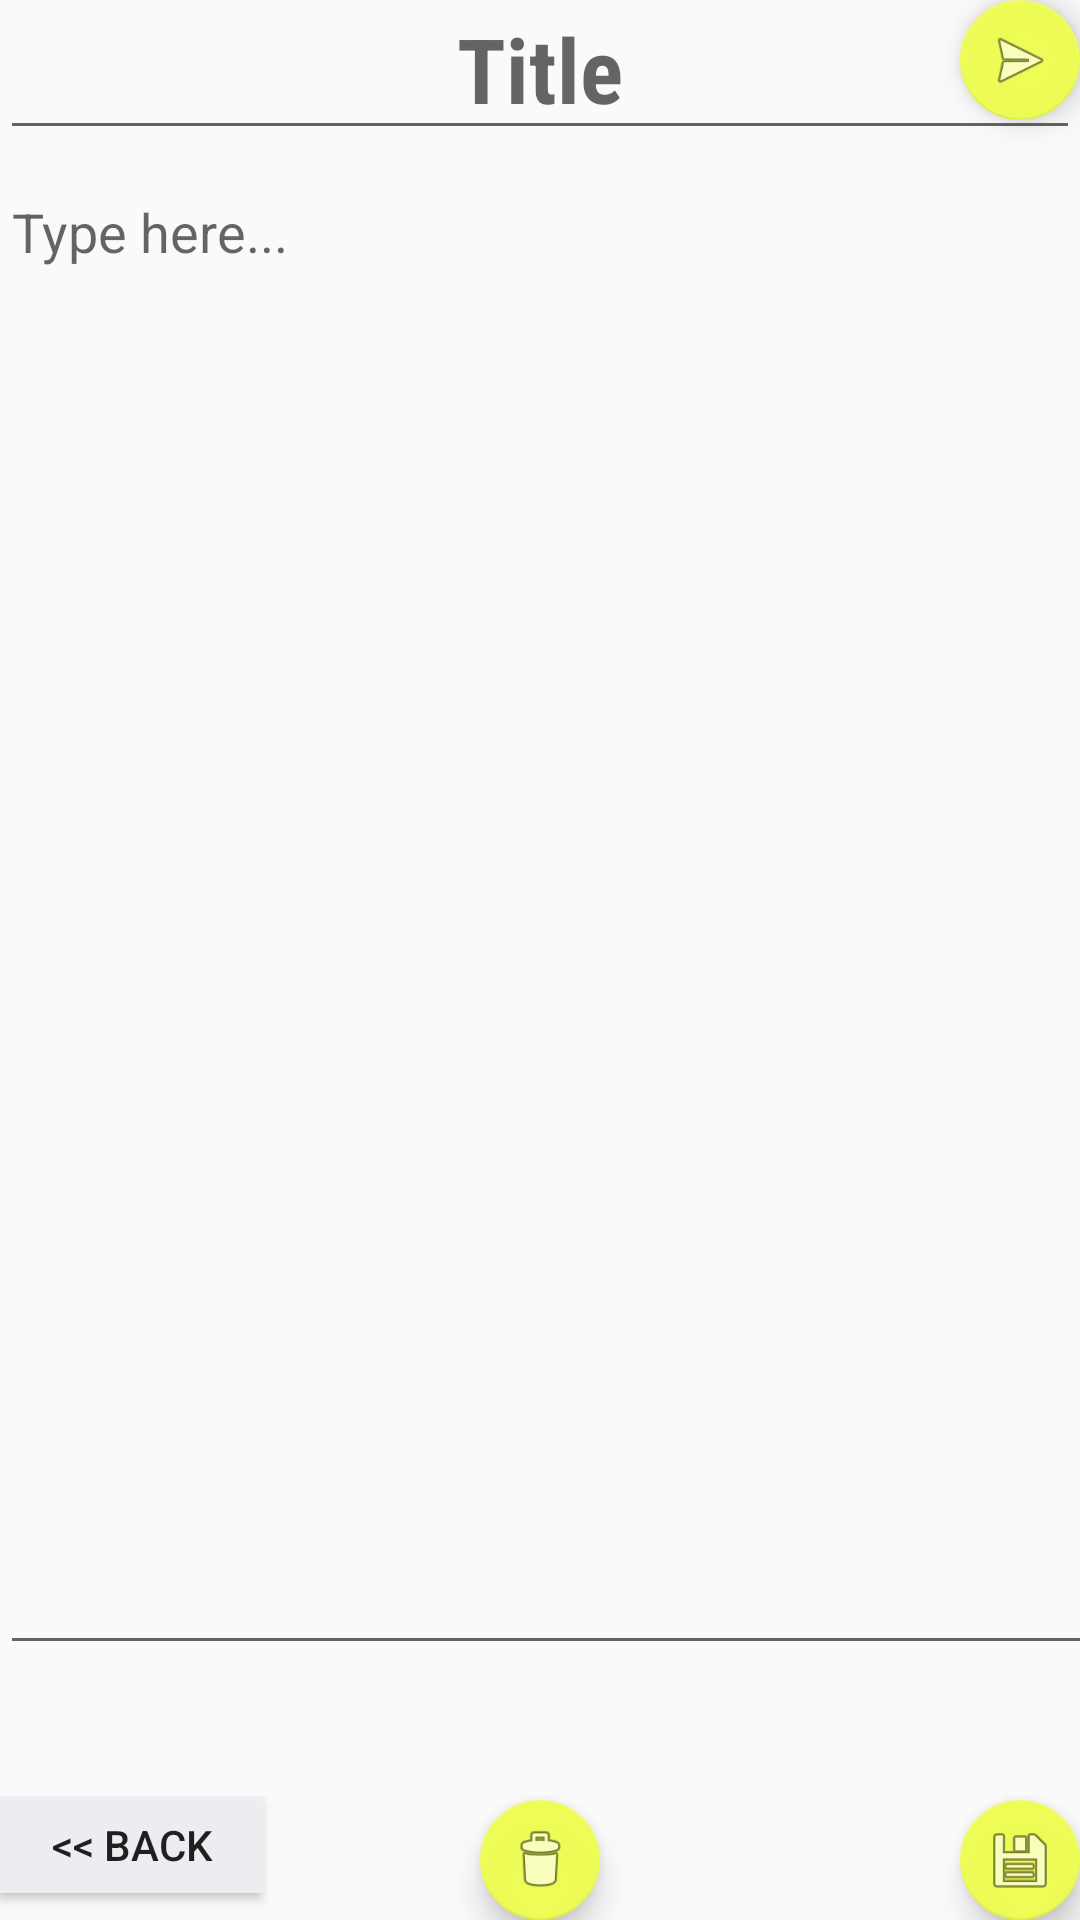

Point at icon controls on the screen. Image size 1080px x 1920px, points as (x=x, y=y).
delete: (x=540, y=1860)
save: (x=1020, y=1860)
send: (x=1020, y=60)
